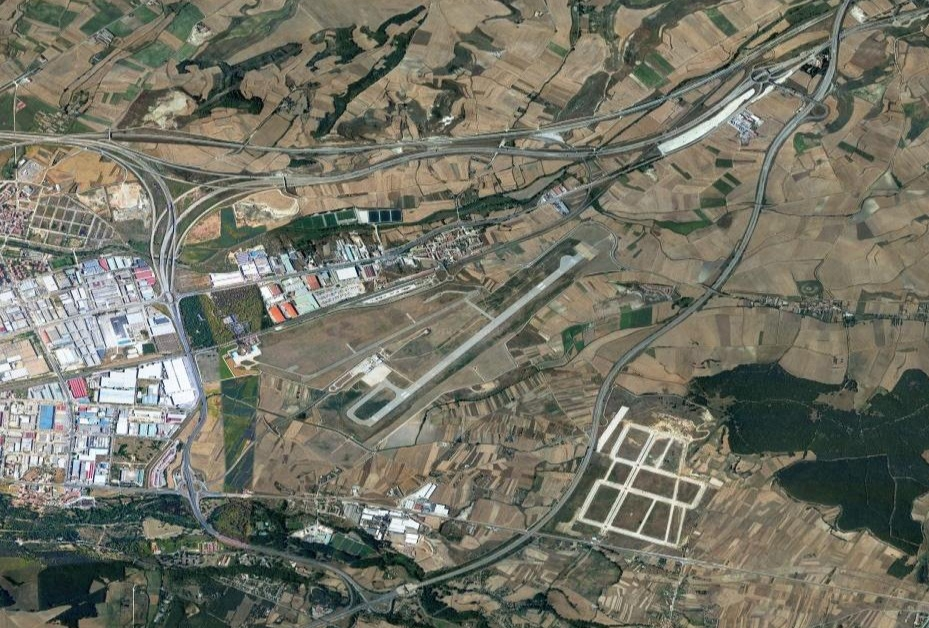airport: (328, 238, 598, 428)
